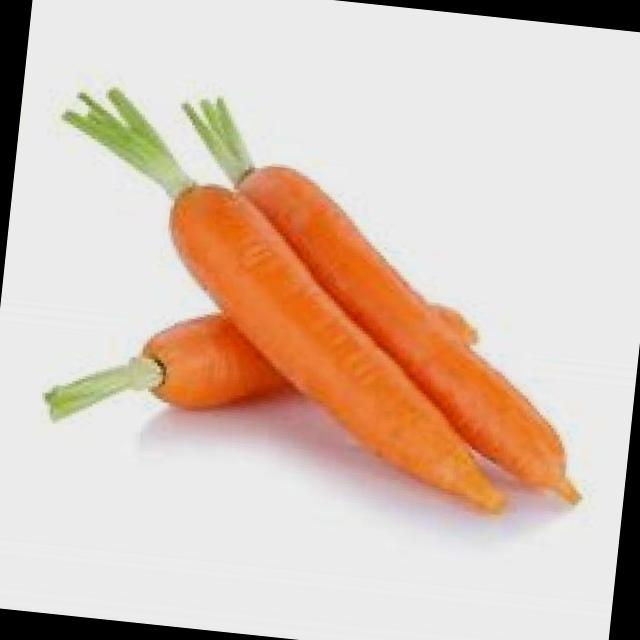carrot: (168, 179, 507, 505), (232, 165, 569, 489)
